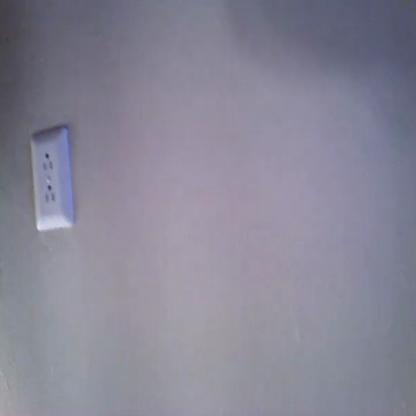OUTLET: (32, 130, 70, 231)
